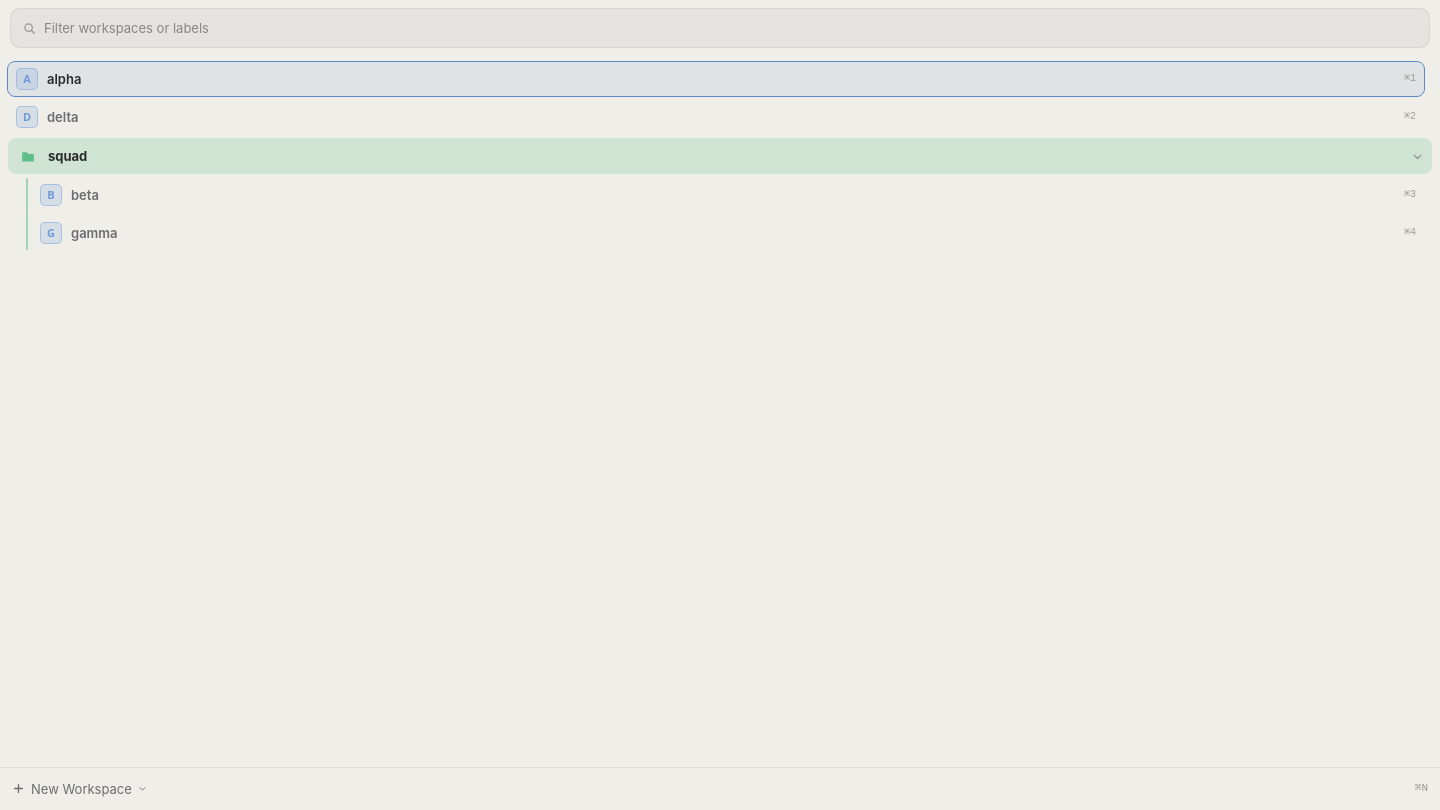
L1 — the group sheet is a labelled row of 16pt swatches › leads with a "Color" caption and marks the choice with a checkmark inside the swatch
Click the button with test id "sidebar-new-menu-toggle" at (142, 789), box [132,778,153,799]
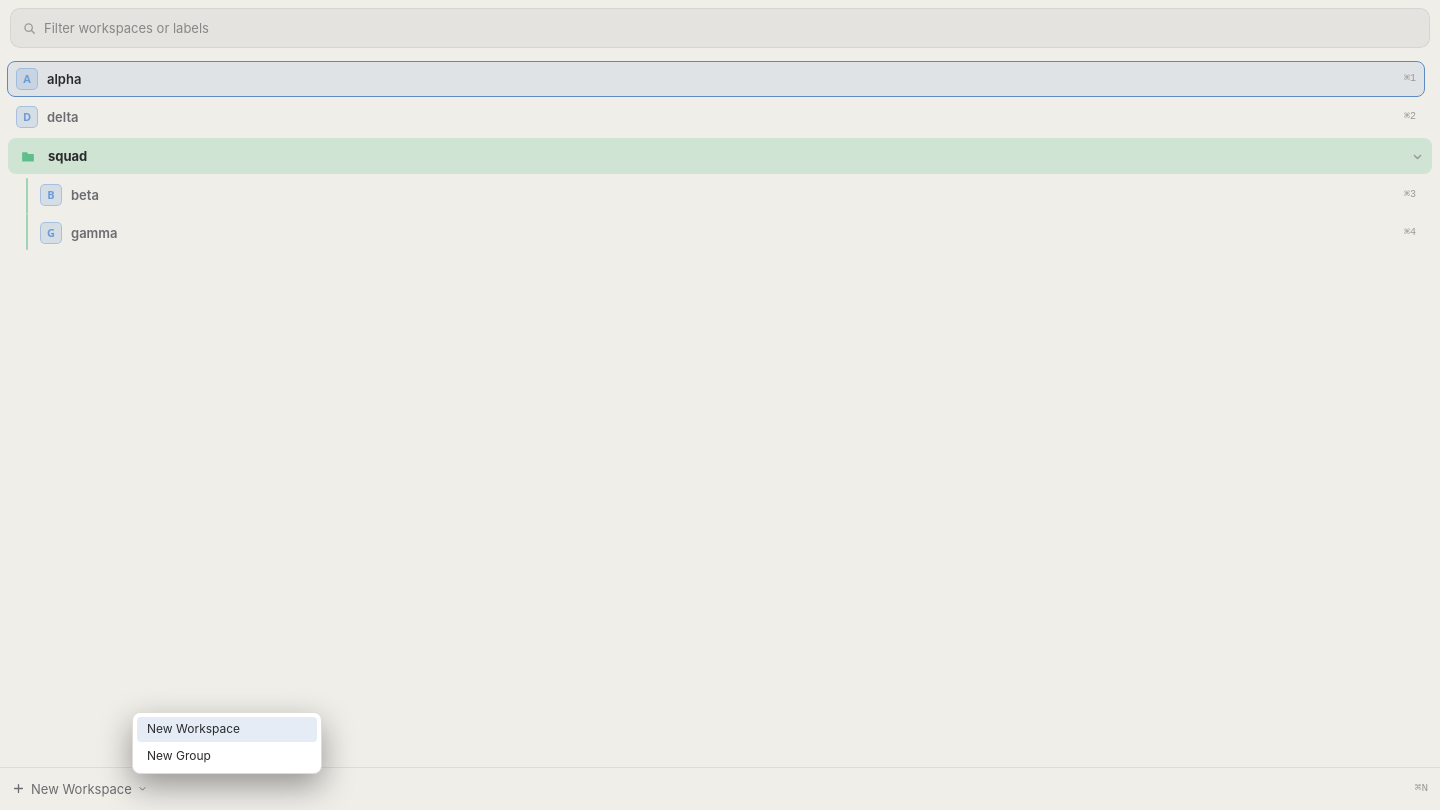
Click the menu item "New Group" at (227, 756), box [137,744,317,769]
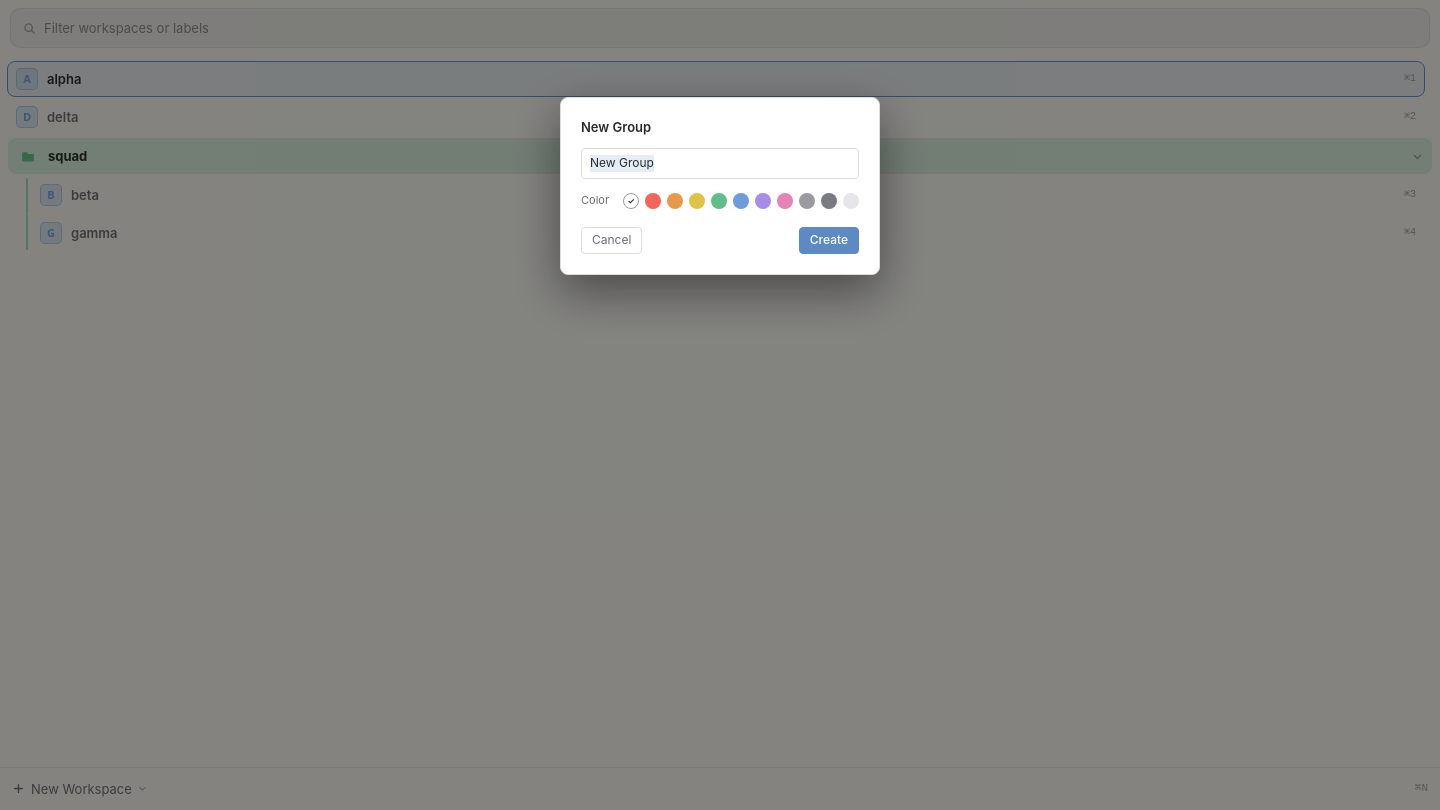
Now the radio button with test id "new-group-color-none" reads "✓", box [623,193,639,209]
Now the radio button with test id "new-group-color-red" is empty
Click the radio button with test id "new-group-color-red" at (653, 201), box [645,193,661,209]
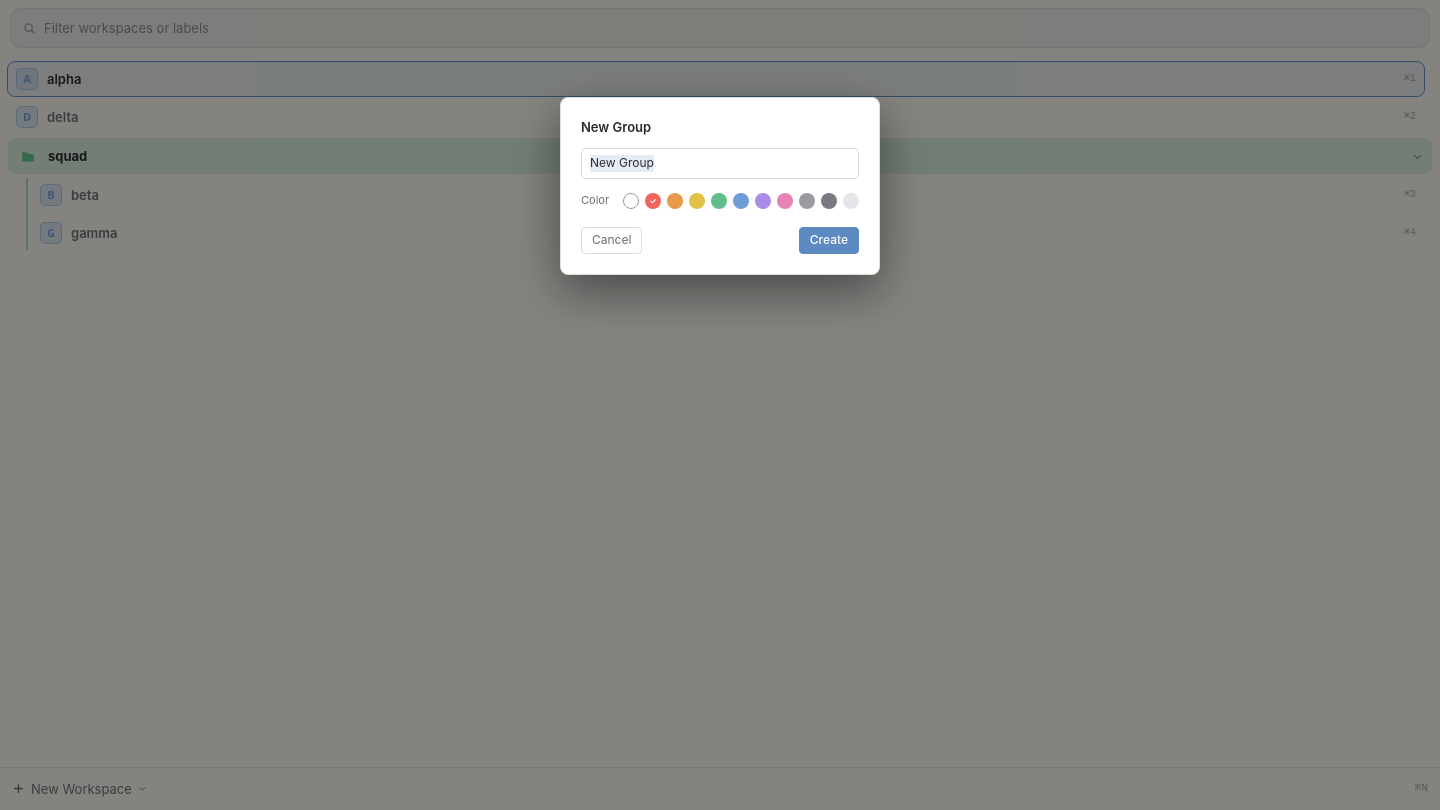
Now the radio button with test id "new-group-color-red" reads "✓", box [645,193,661,209]
Now the radio button with test id "new-group-color-none" is empty, box [623,193,639,209]
